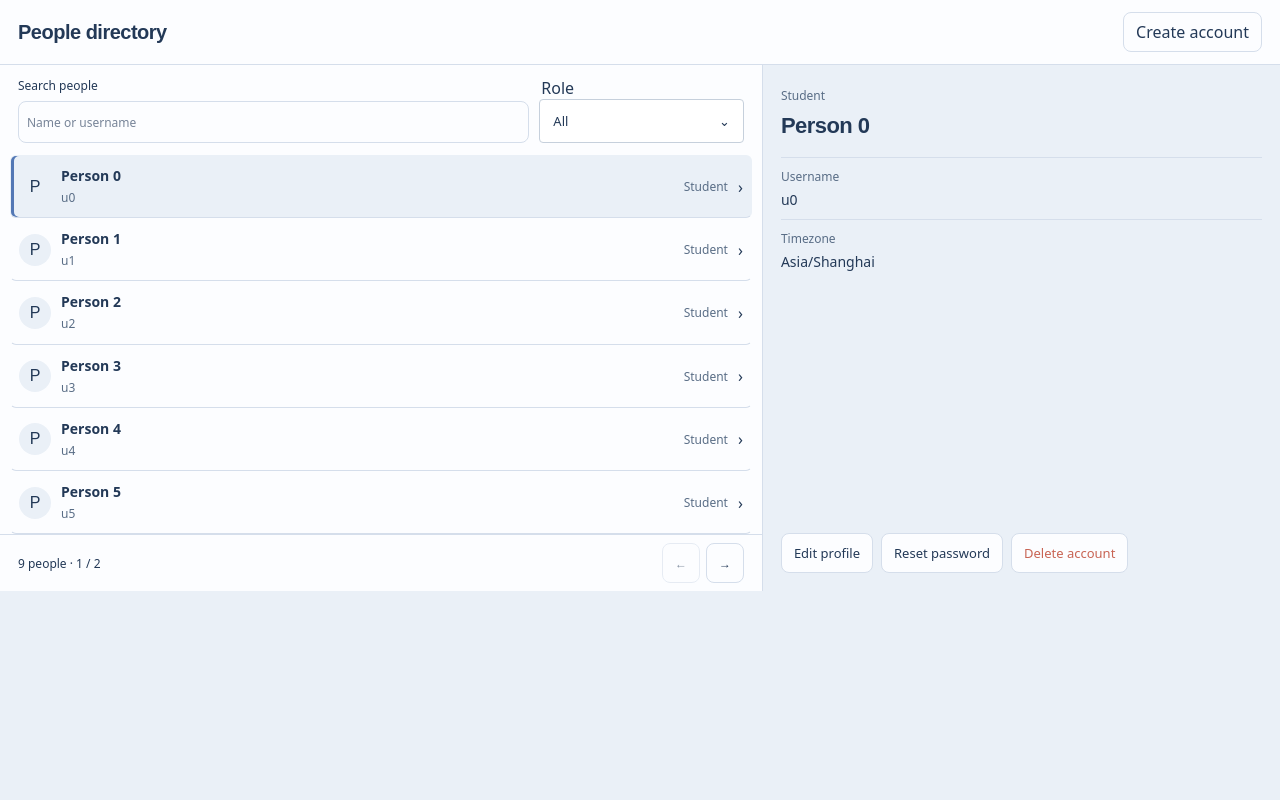
Test: paginates desktop at six people and selects from the current page
Click the button "→".
click(725, 563)  # box [706,543,744,583]
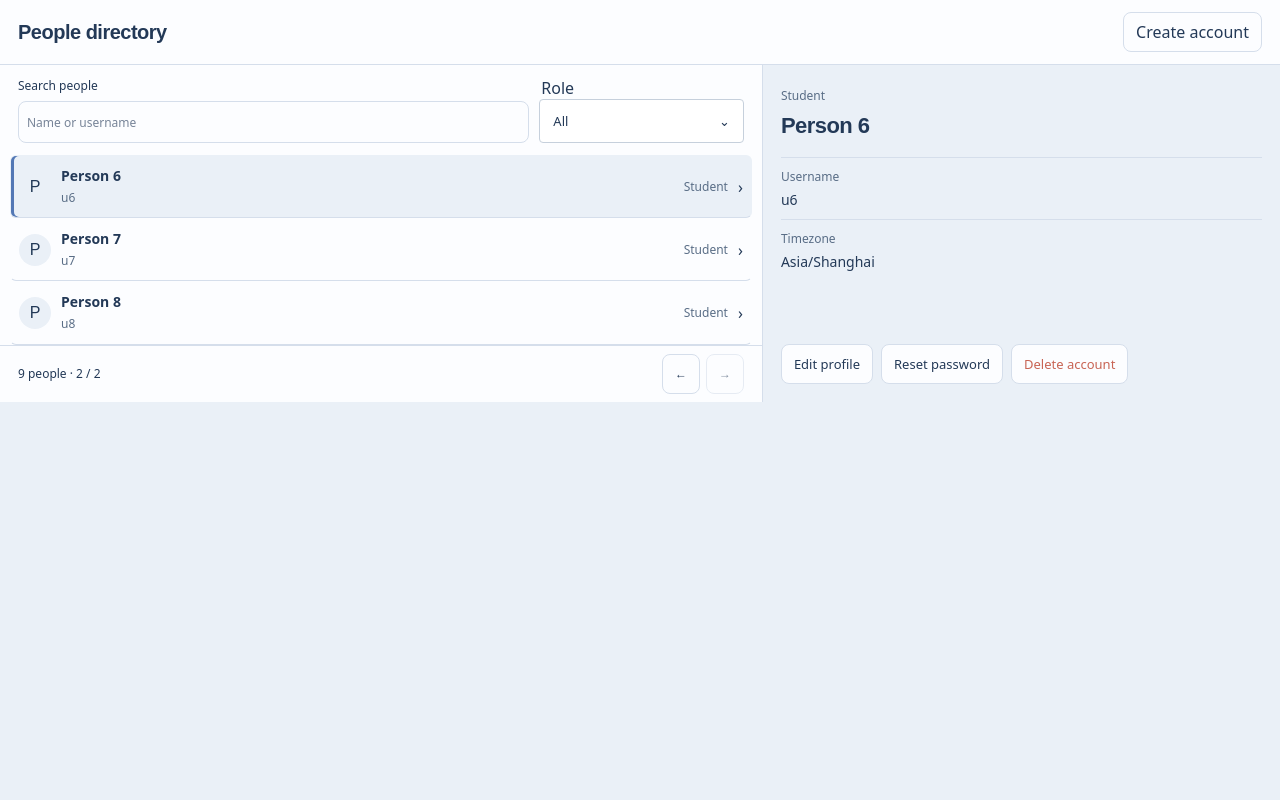
Now the element named "Person details" shows "Person 6", box [781,113,869,138]
Type "Person 0" into the search field labelled "Search people".
click(274, 122); type("Person 0")  # box [18,101,529,143]
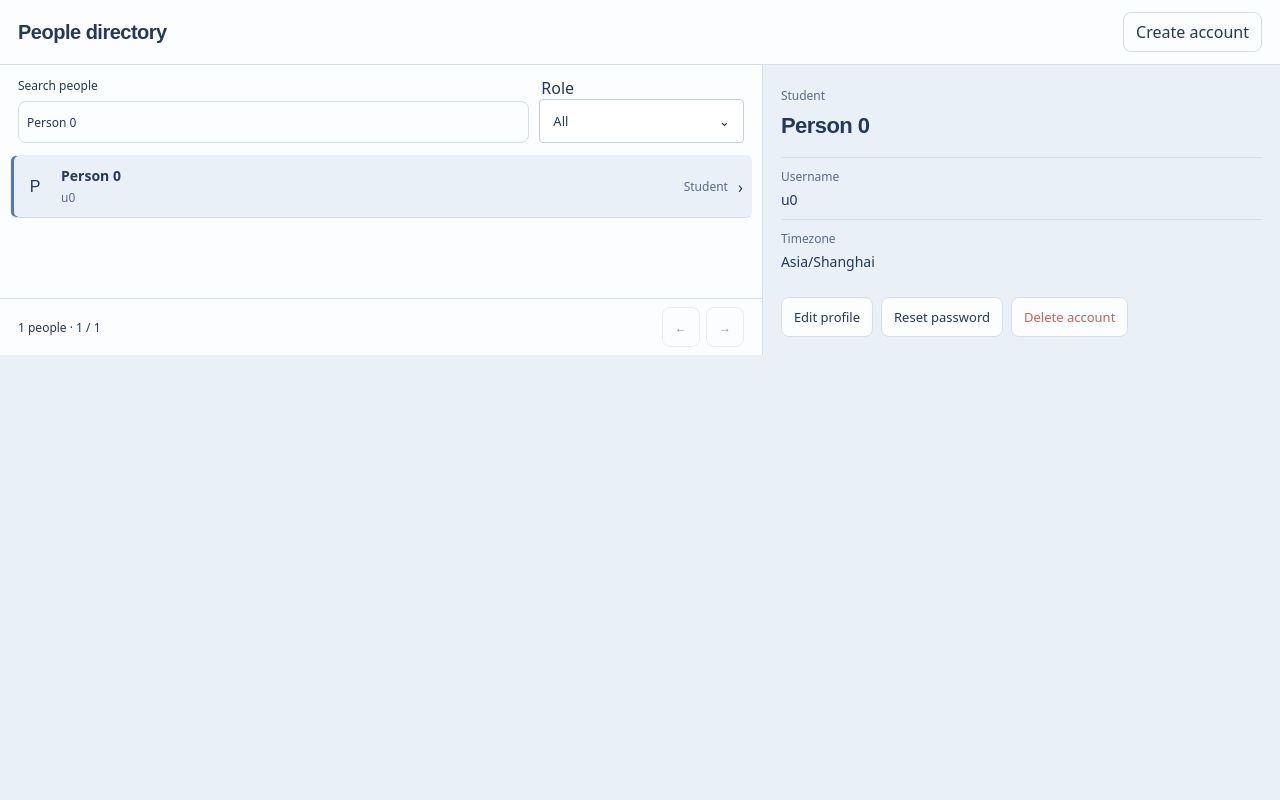
Now the navigation bar shows "1 / 1", box [18,318,100,336]
